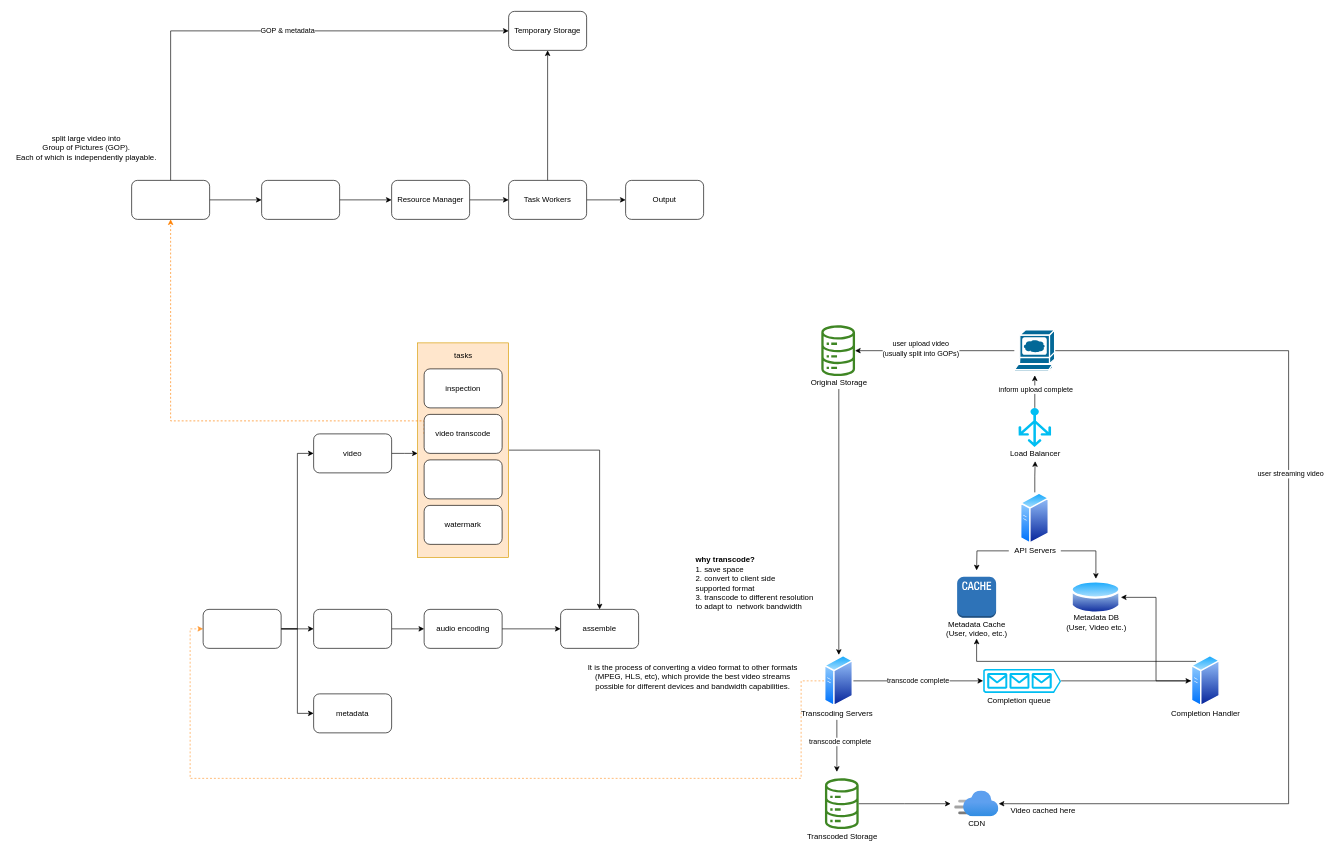
The diagram is 1334 pixels wide and 855 high, and some of its shapes have lost their labels. Here are the shapes that lost their labels. From the top down, the box of each, then its label:
(131, 180, 210, 219): Preprocessor
(261, 180, 340, 219): DAG scheduler
(423, 459, 502, 499): thumbnail
(202, 609, 281, 648): original video
(313, 609, 392, 648): audio
